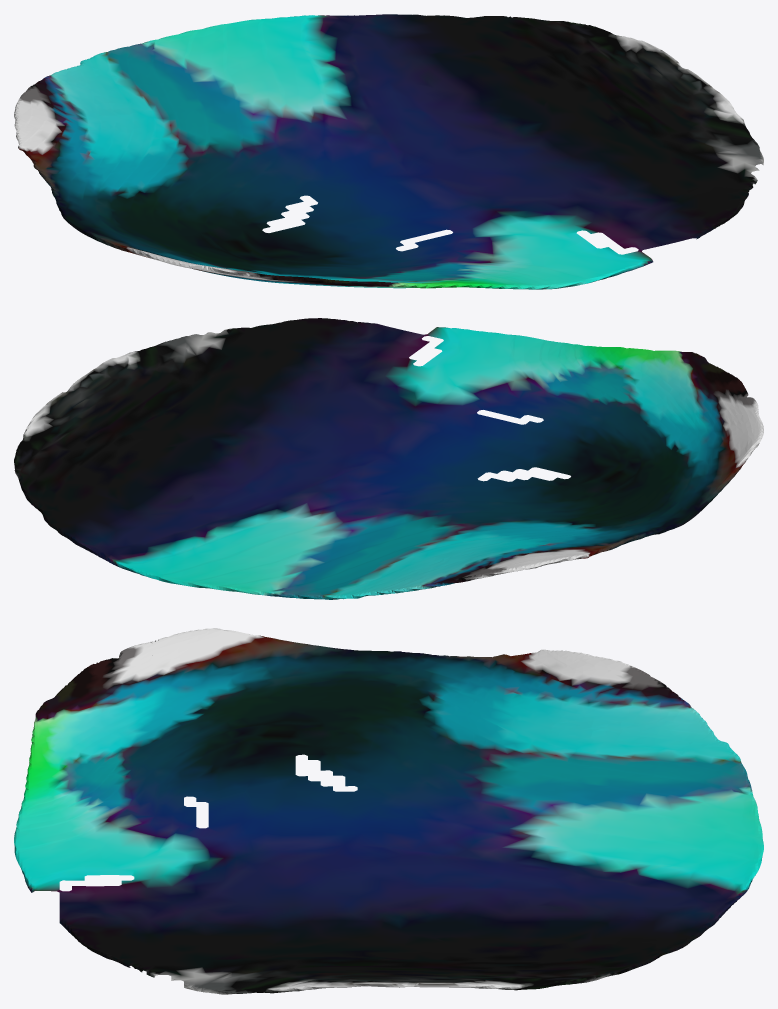
The model's file is lstone.glb.
3 views of the same model, one above another, from view 1: azimuth 30°, elevation 25°; view 2: azimuth 150°, elevation 25°; view 3: azimuth 270°, elevation 25° (orthographic). The views are drawn at different scales.
Visible parts, largest first — view 1: geometry_0; view 2: geometry_0; view 3: geometry_0.
Boxes of the visible parts, <box> form: geometry_0: <box>14,14,763,289</box>; geometry_0: <box>14,318,763,599</box>; geometry_0: <box>14,628,763,994</box>.
Bounding box in the file's own units: 0.5 × 0.0424 × 0.485.
